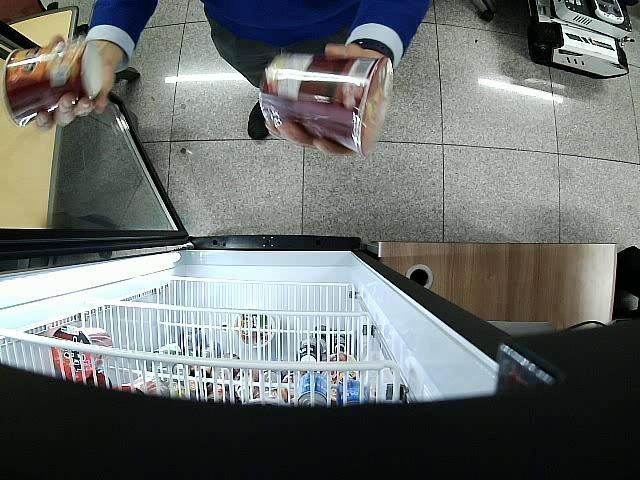06_nuguri_S: (260, 54, 394, 156), (2, 40, 104, 126)
